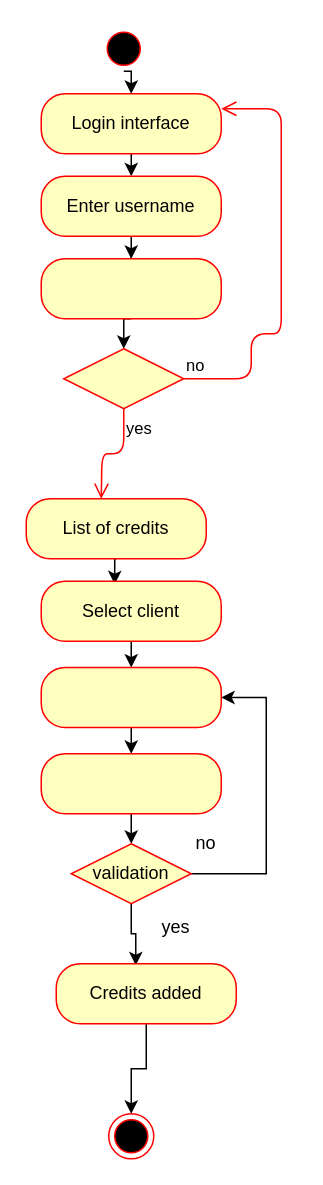
Image size: 323x1185. Some labels were removed from this diagram. The centre of each missing label's shape, as x and y in pixels:
"Click add" goes at point 130,783.
"Enter password" goes at point 130,288.
"Write value to add" goes at point 130,697.
